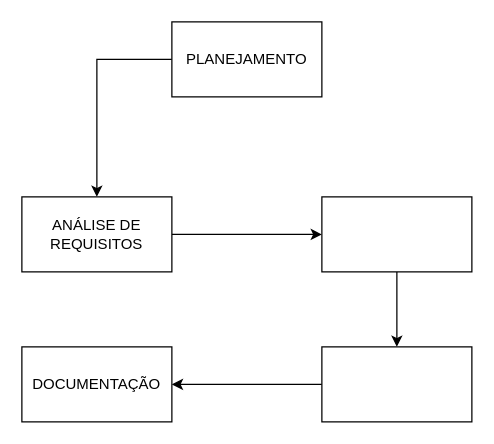
This 494x444 diagram has some shape labels left out. The shapes that lost their labels are listed below. From the top down, each one's centre as x and y in pixels, then its label:
At point (396, 234): "DESIGN DO SISTEMA".
At point (396, 384): "IMPLEMENTAÇÃO".
